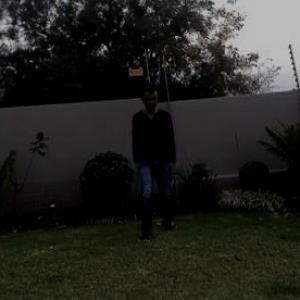follow: (121, 77, 175, 248)
